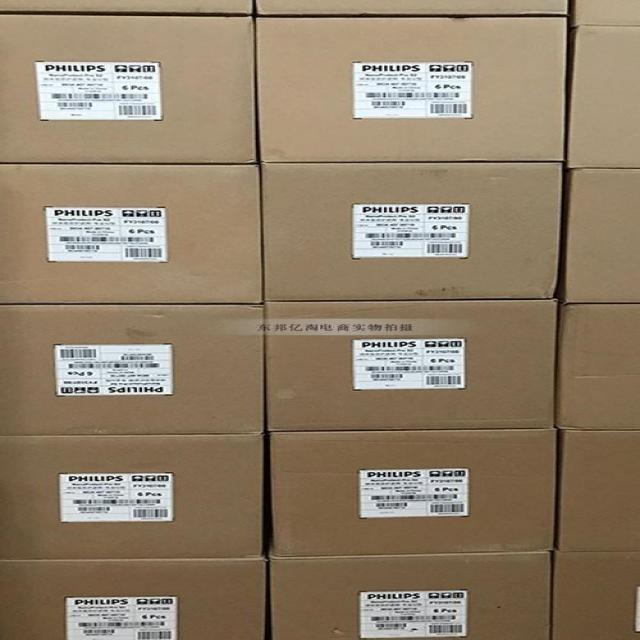box: (247, 15, 576, 169), (260, 163, 572, 305), (0, 14, 265, 170), (266, 429, 564, 567), (255, 302, 573, 430), (0, 161, 267, 311), (0, 298, 272, 443), (0, 426, 265, 566), (265, 545, 571, 640), (0, 554, 272, 640)
